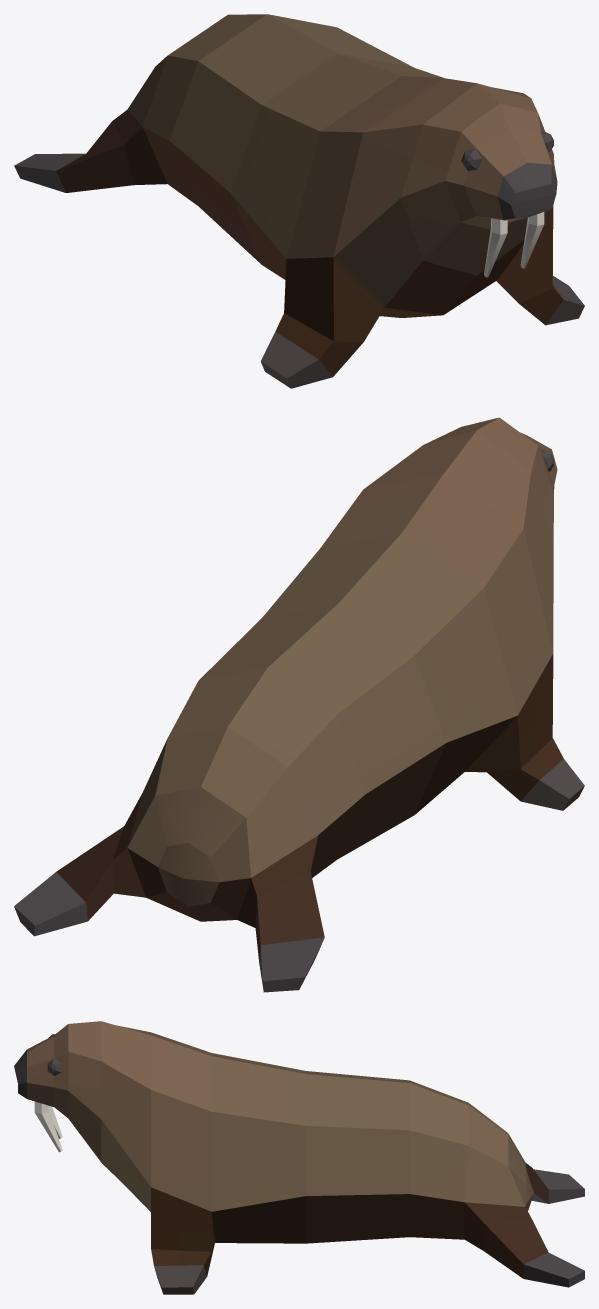
The model's file is animals-walrus-206.glb.
The picture shows the model from 3 angles, top to bottom: view 1: azimuth 30°, elevation 25°; view 2: azimuth 150°, elevation 25°; view 3: azimuth 270°, elevation 25°; orthographic projection. The views are drawn at different scales.
Parts seen in each view (by area): view 1: Geo_Walrus; view 2: Geo_Walrus; view 3: Geo_Walrus.
Boxes of the visible parts, x1,y1,x2,y2 form: Geo_Walrus: [14, 14, 584, 388]; Geo_Walrus: [14, 417, 584, 992]; Geo_Walrus: [14, 1021, 584, 1294].
Size of the model in its own units: 132 by 123 by 288.
1 material, 1 textured.
